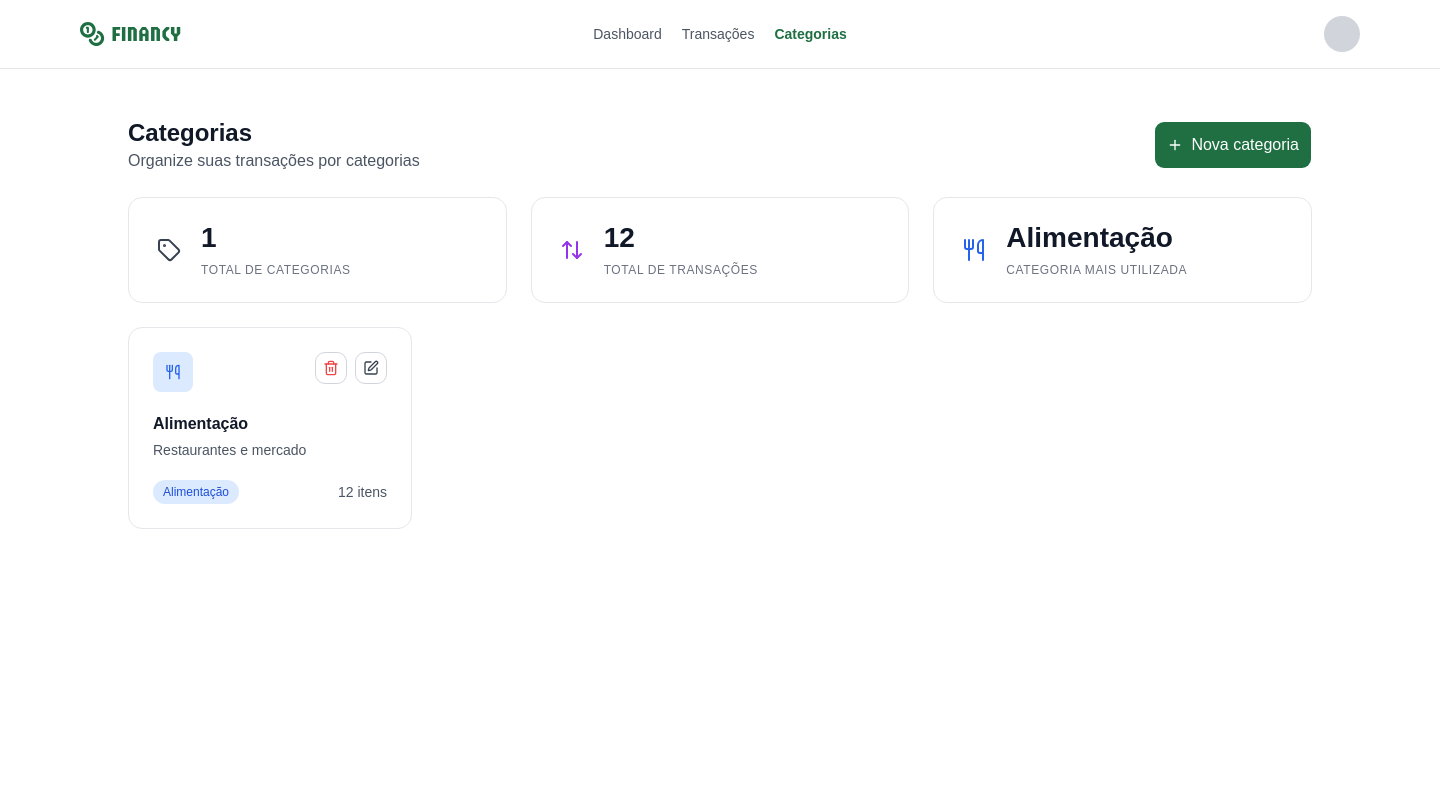
Test: CategoriesPage › opens EditCategoryDialog for the clicked card's category
Click the button named "editar" at {"x": 371, "y": 368}, box [355,352,387,384]
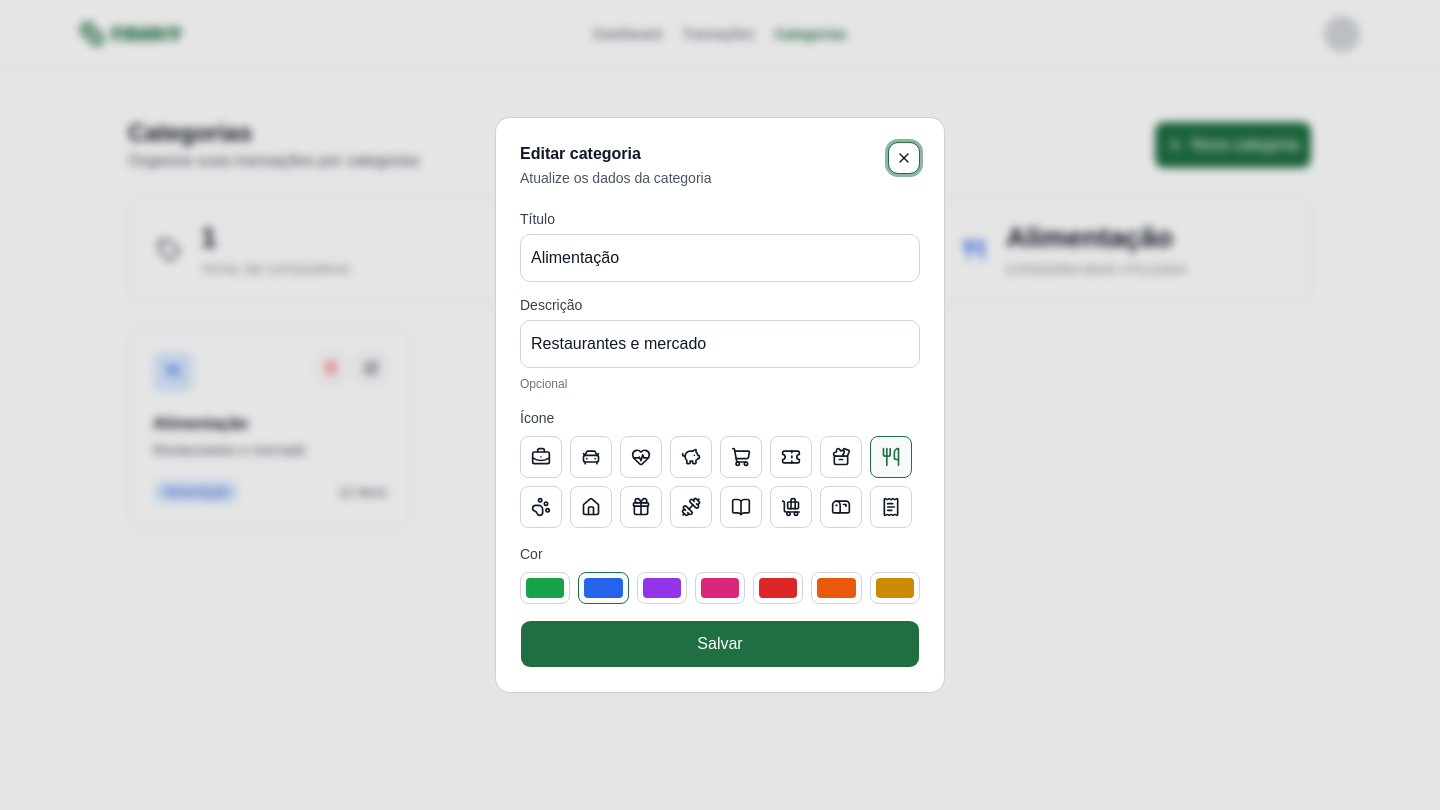
Now the heading "Editar categoria" is shown, box [520,145,641,162]
Now the field labelled "Título" holds "Alimentação", box [520,234,920,282]
